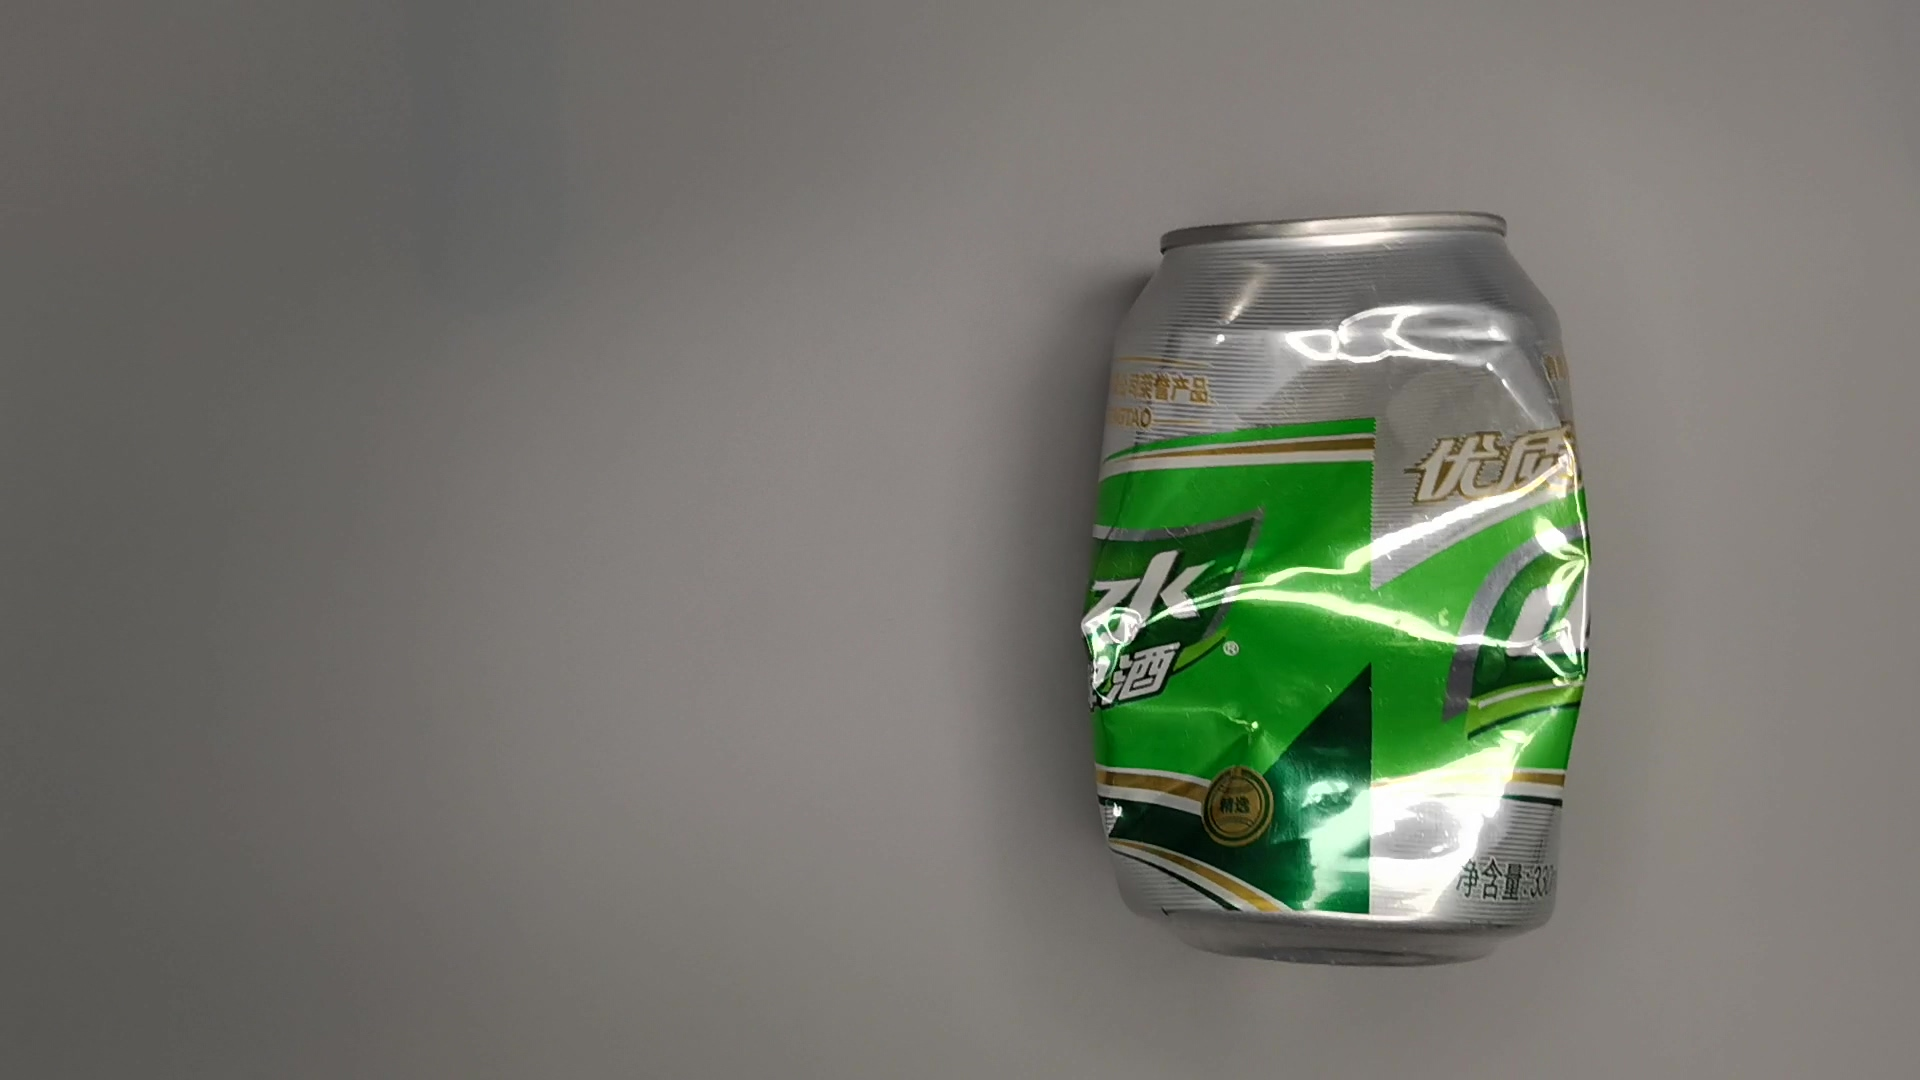can: (1071, 200, 1596, 986)
